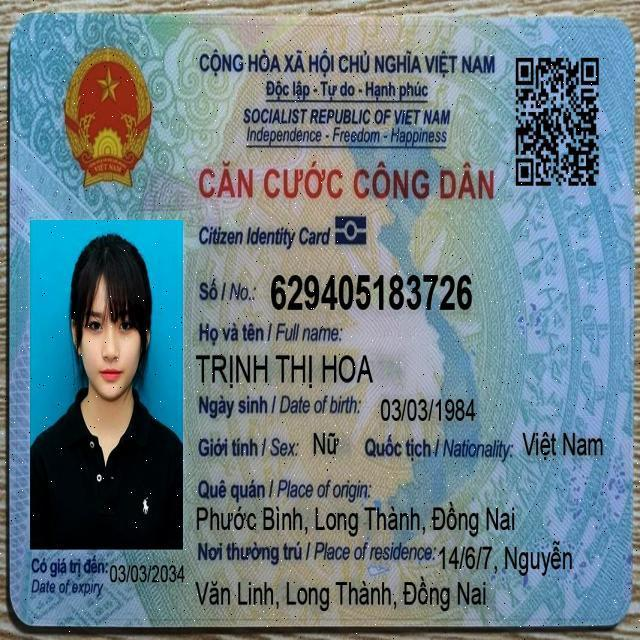current_place: (191, 573, 489, 615), (437, 538, 575, 579)
dob: (377, 393, 478, 428)
expire_date: (108, 561, 187, 587)
gender: (311, 427, 342, 460)
id: (267, 266, 477, 319)
name: (192, 348, 377, 391)
nationality: (519, 427, 606, 465)
origin_place: (193, 500, 519, 540)
